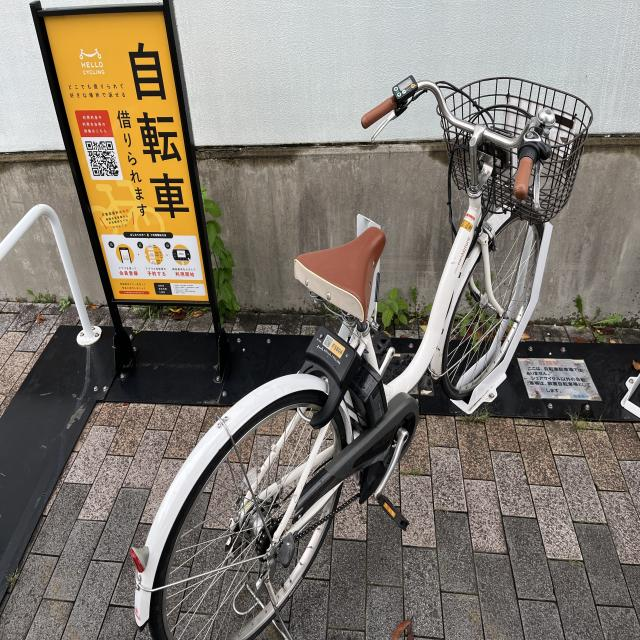basket: (433, 68, 595, 226)
battery: (350, 362, 391, 441)
